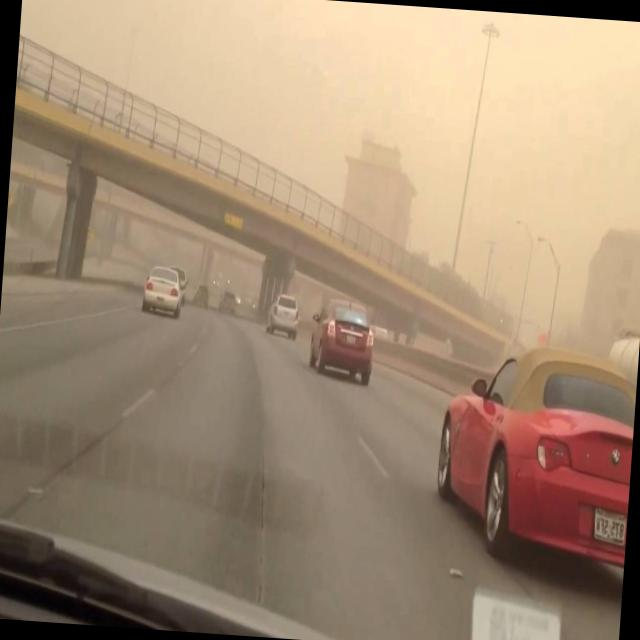car: (427, 335, 639, 595), (305, 301, 377, 385), (140, 265, 185, 318), (265, 291, 301, 341), (219, 291, 237, 314), (191, 284, 209, 307), (177, 271, 189, 302)
